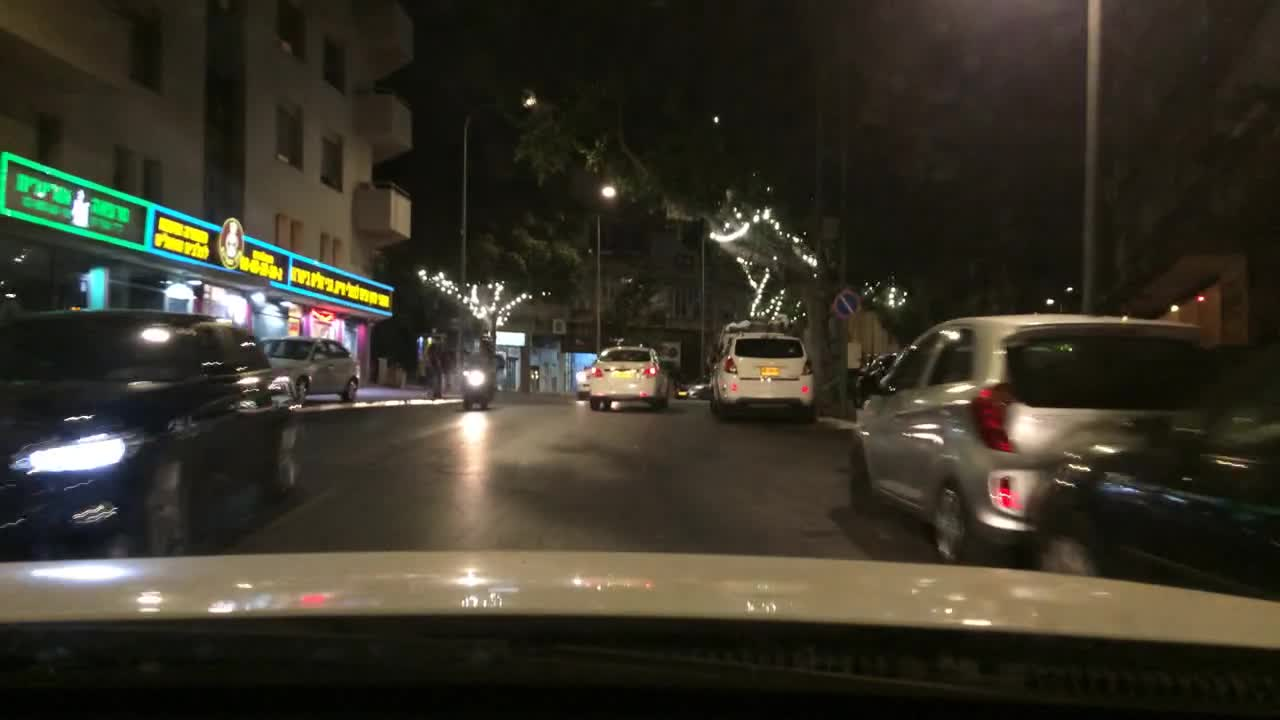car: (848, 311, 1212, 568), (0, 310, 300, 561), (1022, 340, 1280, 600), (711, 325, 817, 420), (257, 334, 360, 402), (583, 340, 675, 408), (850, 351, 899, 400), (678, 371, 716, 402), (573, 365, 592, 399)
motor: (458, 354, 504, 409)
person: (423, 333, 444, 402)
rider: (472, 325, 497, 386)
traffic sign: (828, 288, 865, 319)
